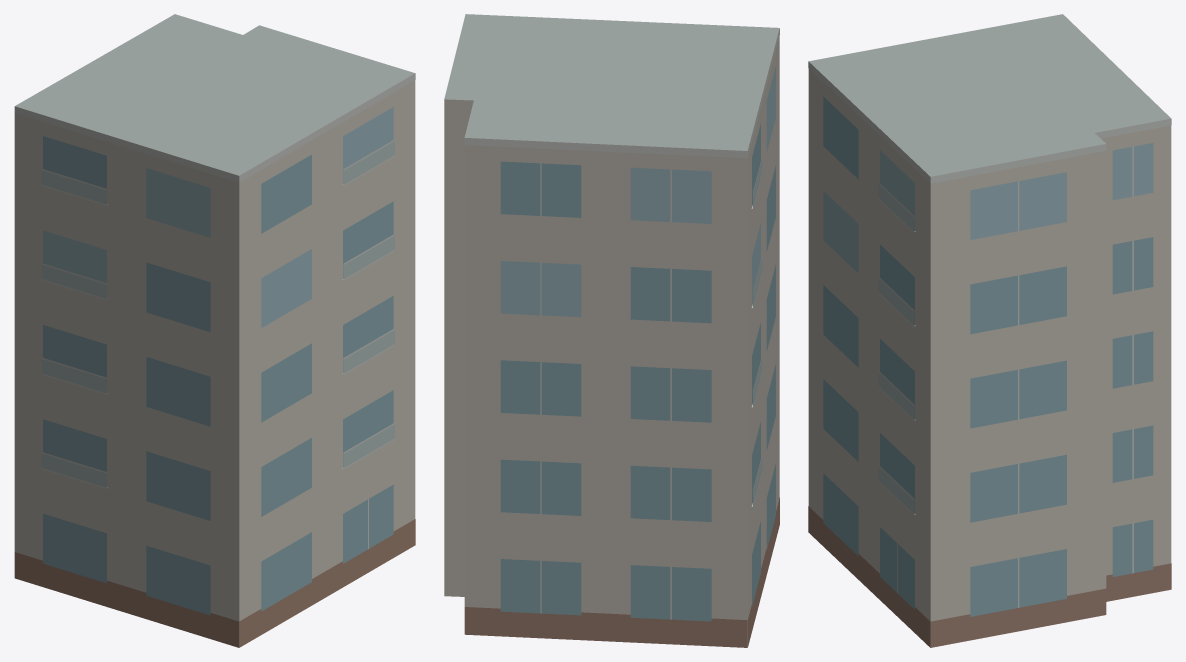
Rendered from survey-upis-32939714.glb.
The picture shows the model from 3 angles, left to right: view 1: azimuth 30°, elevation 25°; view 2: azimuth 150°, elevation 25°; view 3: azimuth 270°, elevation 25°; orthographic projection. The views are drawn at different scales.
Visible parts, largest first — view 1: survey-upis-32939714.tmp; view 2: survey-upis-32939714.tmp; view 3: survey-upis-32939714.tmp.
Part boxes in pixels (x1,y1,x2,y2): survey-upis-32939714.tmp: (14, 14, 415, 647); survey-upis-32939714.tmp: (444, 14, 779, 647); survey-upis-32939714.tmp: (808, 14, 1171, 647).
Size of the model in its own units: 12.39 by 16.7 by 11.67.
